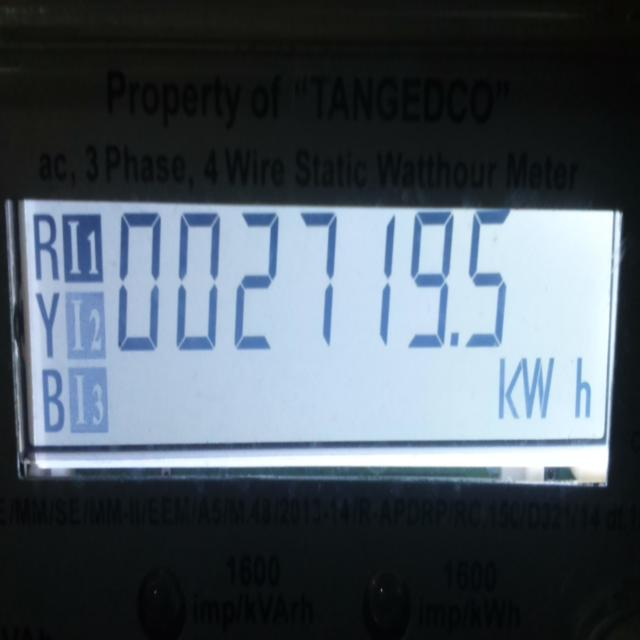.: (452, 331, 460, 348)
0: (119, 209, 161, 352), (178, 211, 218, 352)
1: (379, 214, 395, 348)
2: (235, 212, 279, 351)
5: (468, 212, 506, 348)
7: (302, 209, 336, 352)
9: (410, 215, 450, 348)
